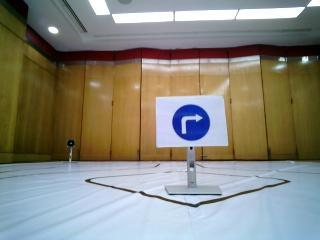right: (157, 98, 224, 145)
